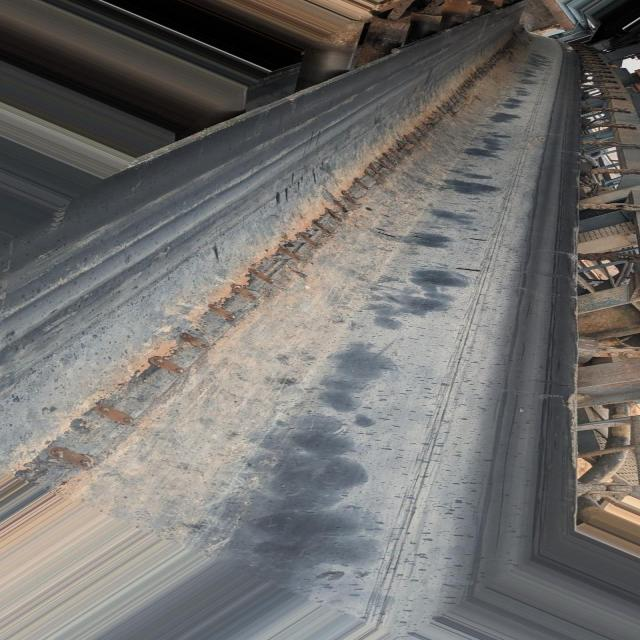patch work: (31, 14, 542, 486)
